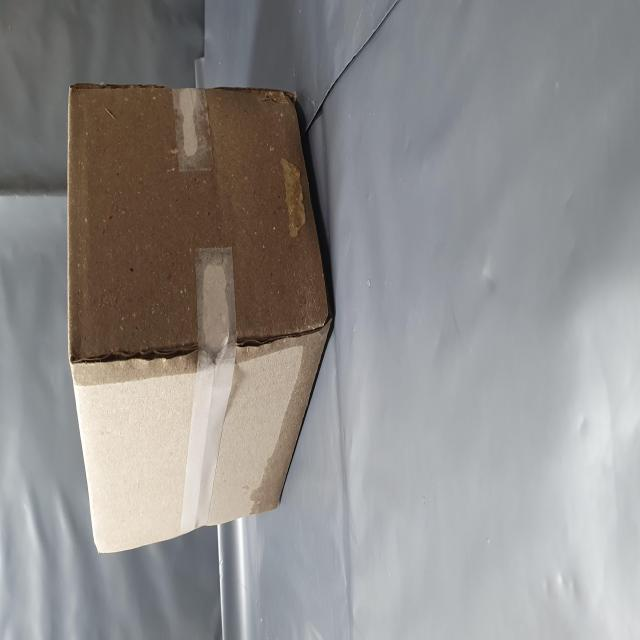wet: (132, 113, 330, 591), (68, 439, 174, 584)
